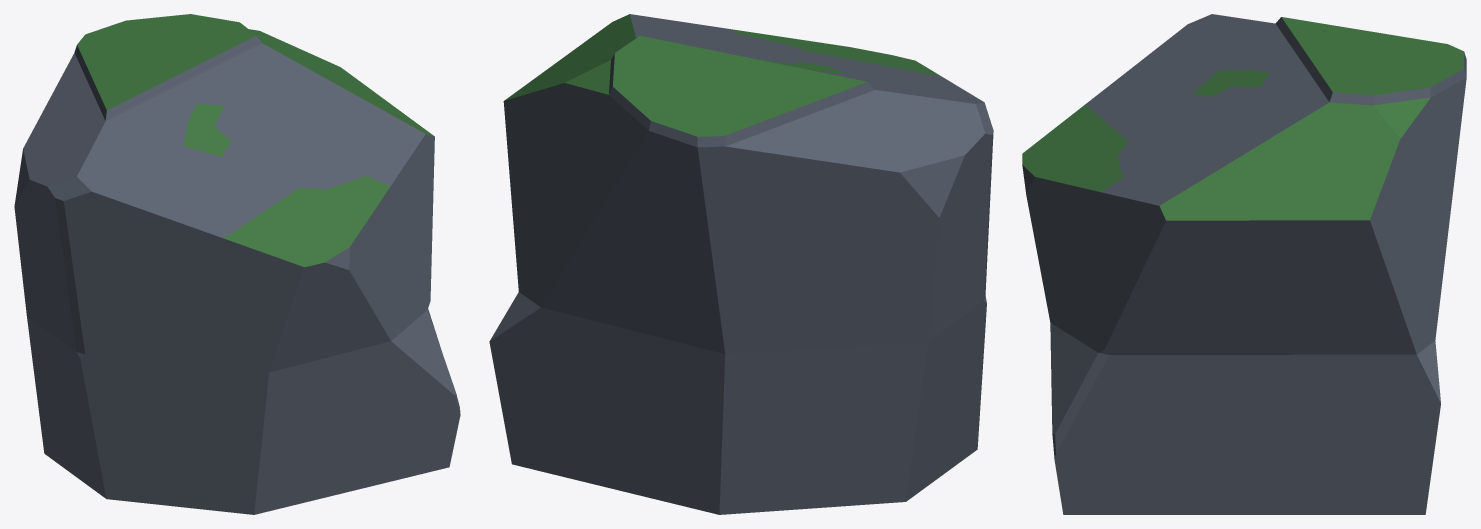
Rendered from Rock_1.fbx.
3 views of the same model, side by side, from view 1: azimuth 30°, elevation 25°; view 2: azimuth 150°, elevation 25°; view 3: azimuth 270°, elevation 25° (orthographic). The views are drawn at different scales.
Parts seen in each view (by area): view 1: Rock_1; view 2: Rock_1; view 3: Rock_1.
Part boxes in pixels (<box>): Rock_1: <box>14,14,460,514</box>; Rock_1: <box>489,14,993,514</box>; Rock_1: <box>1022,14,1466,514</box>.
Size of the model in its own units: 481 by 462 by 481.
